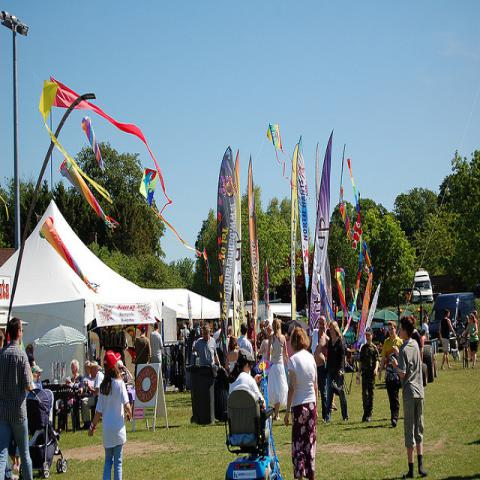truck: (429, 292, 475, 345), (411, 270, 433, 306)
